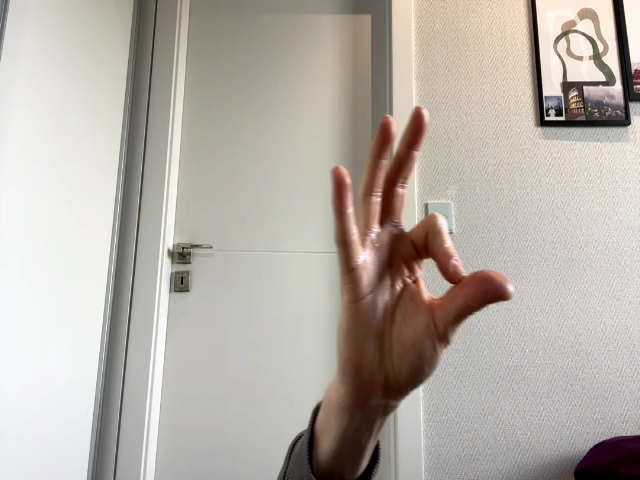S: (332, 106, 515, 413)
